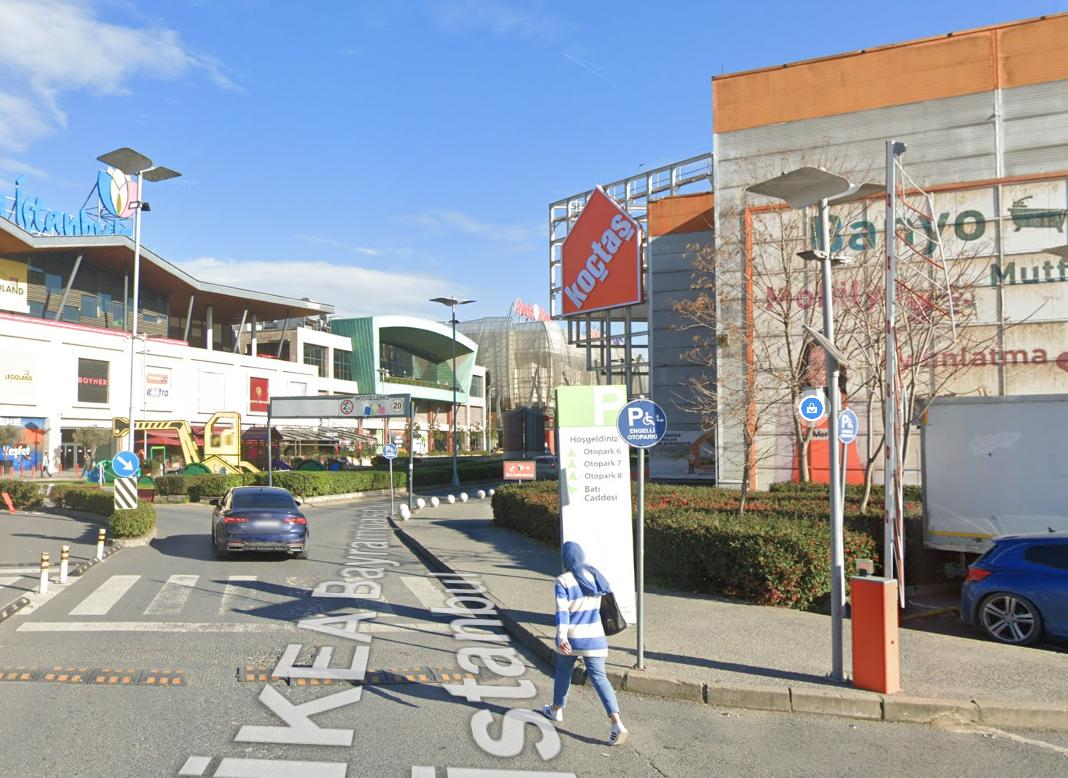disabledpark: (617, 398, 667, 450)
